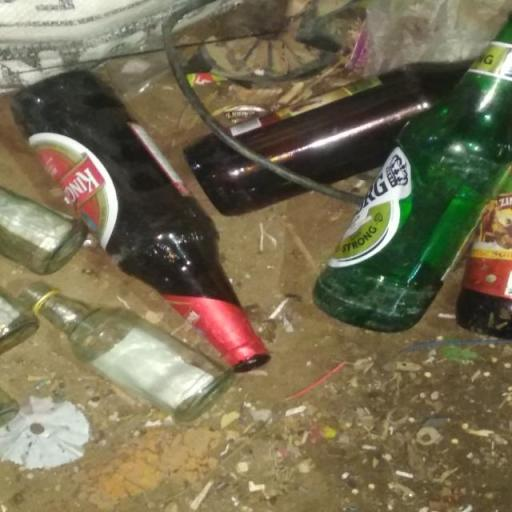glass: (0, 64, 277, 374), (310, 2, 508, 330), (182, 60, 469, 215), (17, 280, 239, 423), (1, 172, 88, 274), (0, 272, 43, 433)
